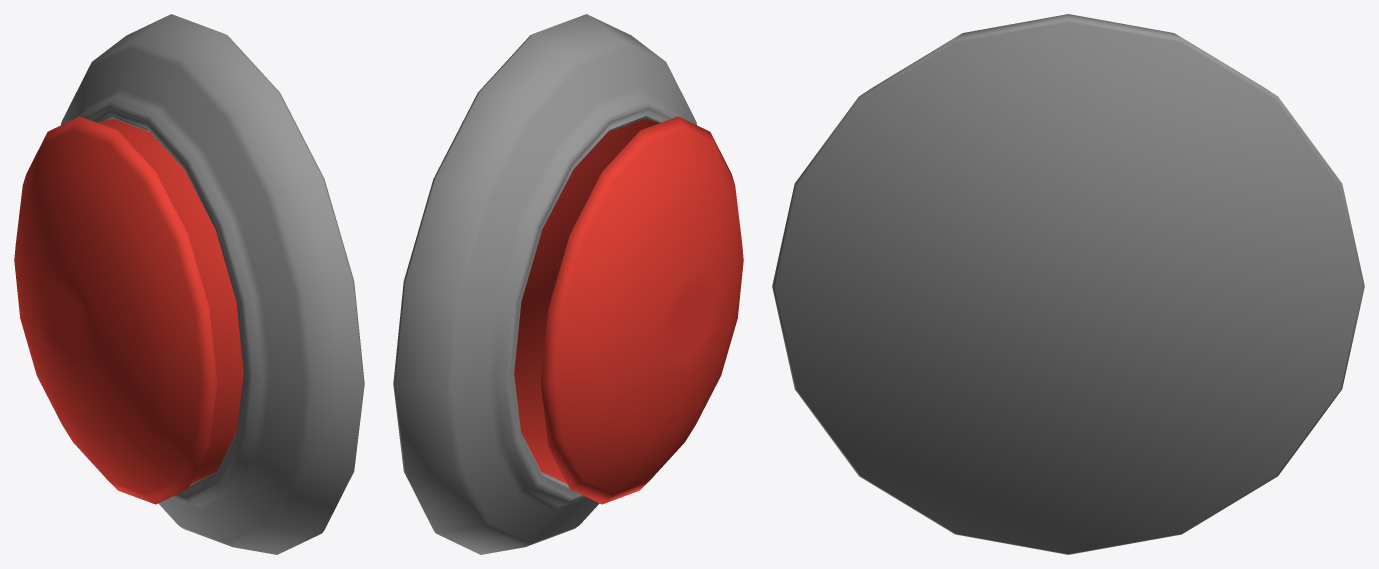
Rendered from L2_B1_Button.fbx.
The picture shows the model from 3 angles, left to right: view 1: azimuth 30°, elevation 25°; view 2: azimuth 150°, elevation 25°; view 3: azimuth 270°, elevation 25°; orthographic projection. The views are drawn at different scales.
Parts seen in each view (by area): view 1: L2_B1_Button_Bottom, L2_B1_Button_Top; view 2: L2_B1_Button_Bottom, L2_B1_Button_Top; view 3: L2_B1_Button_Bottom.
Boxes of the visible parts, <box> form: L2_B1_Button_Bottom: <box>61,14,364,554</box>; L2_B1_Button_Top: <box>14,116,243,504</box>; L2_B1_Button_Bottom: <box>393,14,696,554</box>; L2_B1_Button_Top: <box>514,116,743,504</box>; L2_B1_Button_Bottom: <box>772,14,1364,554</box>.
Bounding box in the file's own units: 0.0598 × 0.1789 × 0.1789.
